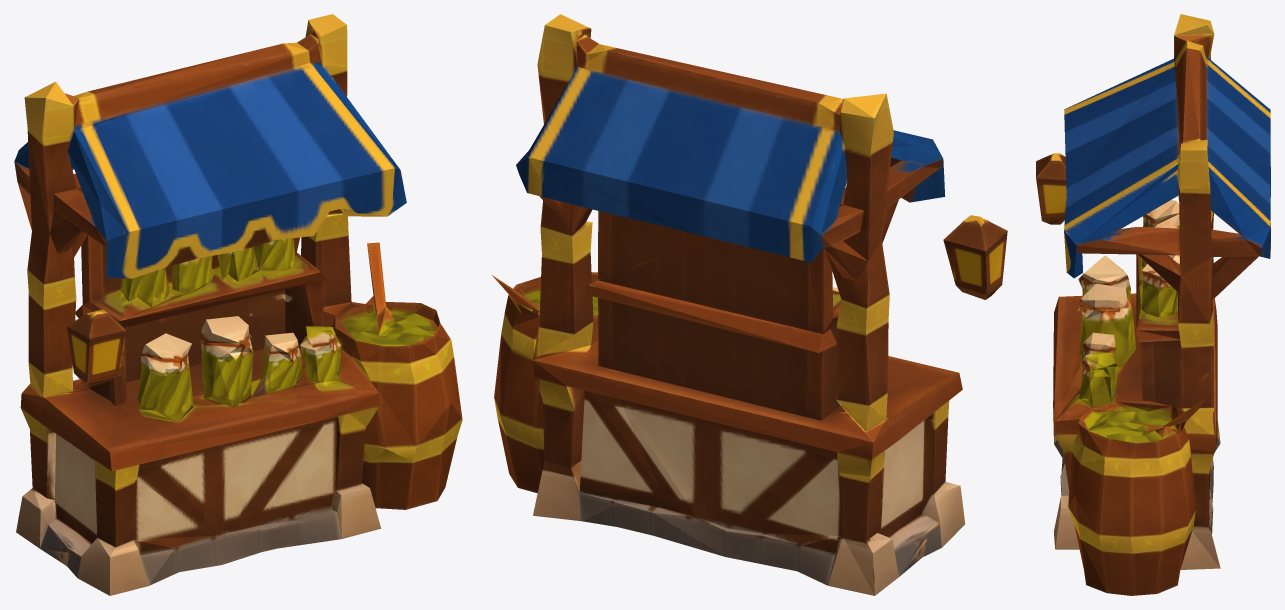
The model's file is TWN_PRP_stall_pickle_A.glb.
3 renders of one model, left to right at view 1: azimuth 30°, elevation 25°; view 2: azimuth 150°, elevation 25°; view 3: azimuth 270°, elevation 25°, orthographic. The views are drawn at different scales.
Parts seen in each view (by area): view 1: Mesh_0; view 2: Mesh_0; view 3: Mesh_0.
Boxes of the visible parts, <box> form: Mesh_0: <box>14,14,462,595</box>; Mesh_0: <box>492,14,1007,595</box>; Mesh_0: <box>1036,14,1270,595</box>.
Size of the model in its own units: 1.83 by 1.9 by 0.9715.
Materials: 1 (1 with a texture image).
